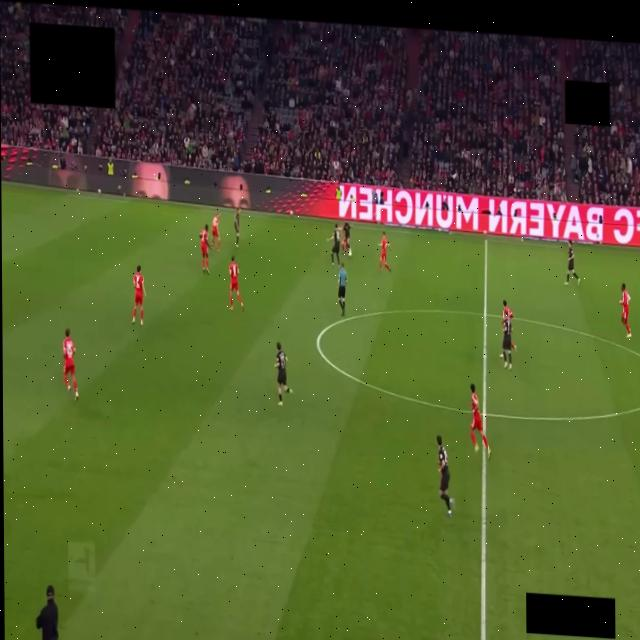ball: (348, 249, 351, 256)
player: (470, 383, 490, 458), (436, 436, 454, 517), (275, 342, 292, 405), (62, 329, 77, 400), (132, 265, 145, 325), (229, 256, 242, 311), (565, 241, 579, 285), (200, 225, 212, 275), (619, 283, 630, 337), (501, 317, 511, 369), (328, 224, 339, 266), (379, 233, 390, 272), (212, 213, 219, 251), (343, 223, 351, 255), (502, 300, 512, 321), (234, 208, 239, 247)
referee: (338, 263, 346, 317)
